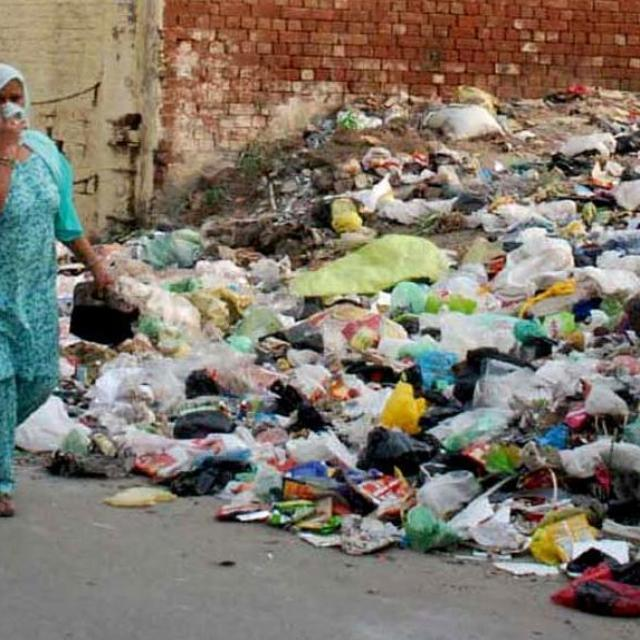garbage: (37, 85, 640, 640)
